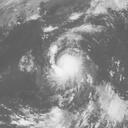cyclone: (46, 43, 87, 88)
